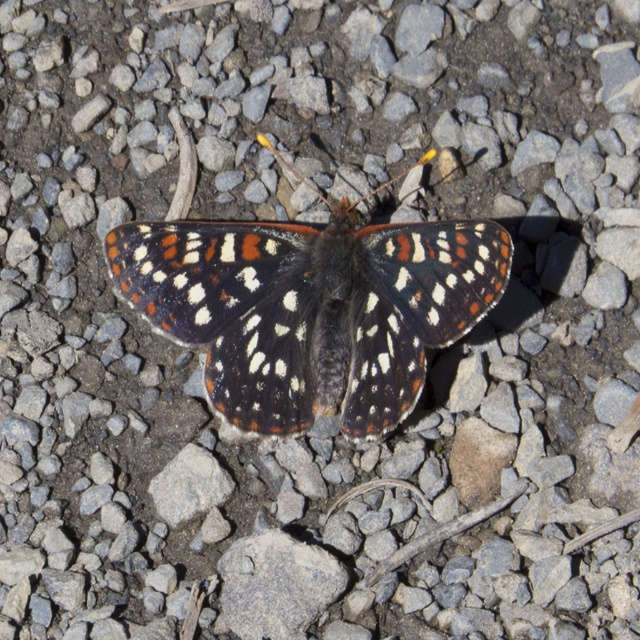Butterfly: (101, 166, 528, 449)
